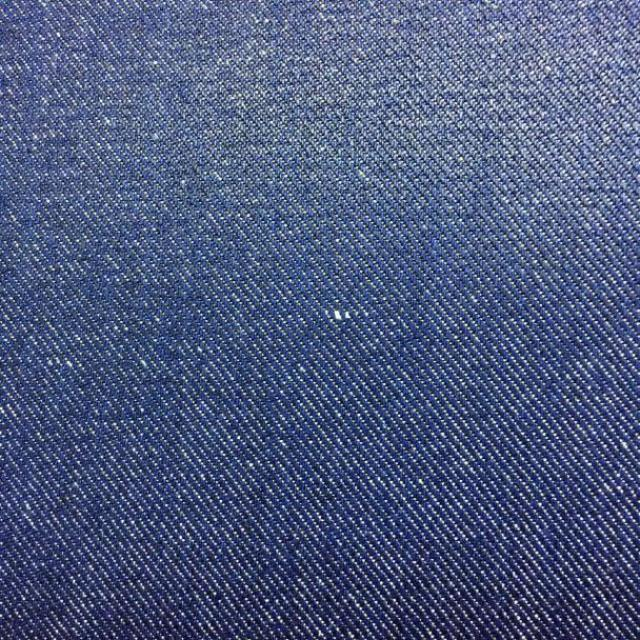Knot: (322, 308, 371, 323)
